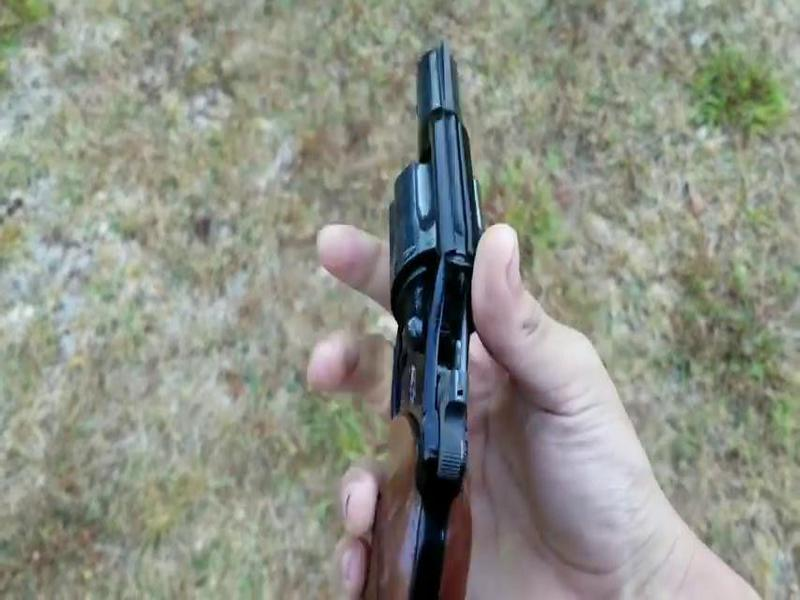Revolver: (368, 39, 506, 594)
